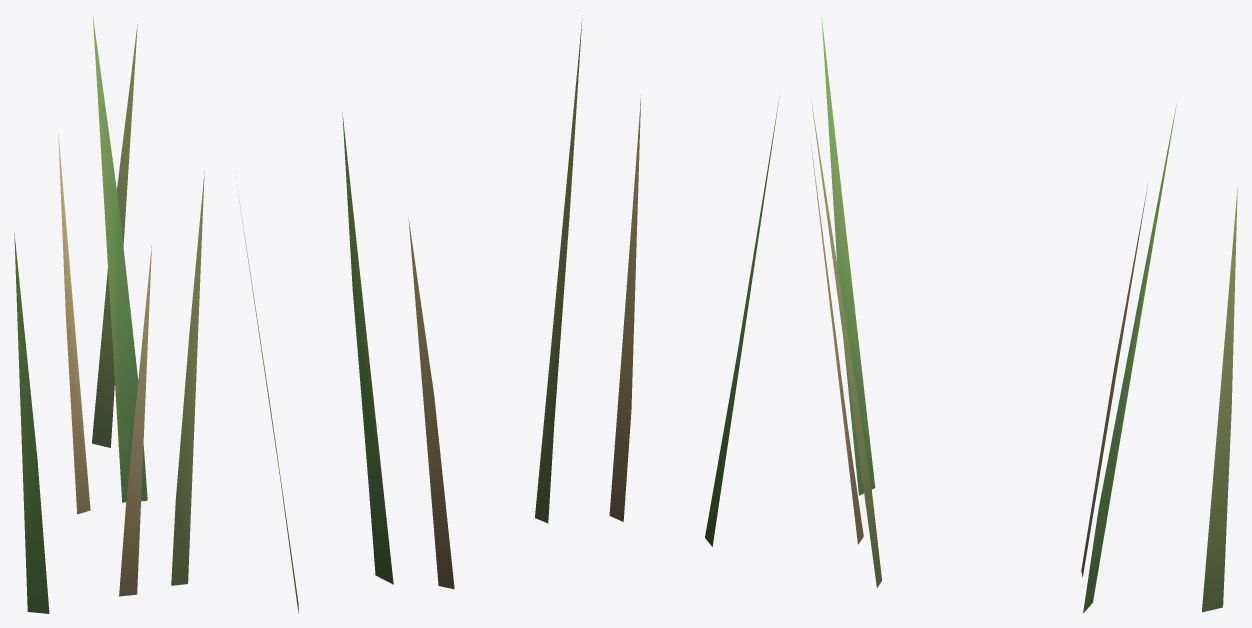
File: SparseField_LOD2.glb
3 views of the same model, side by side, from view 1: azimuth 30°, elevation 25°; view 2: azimuth 150°, elevation 25°; view 3: azimuth 270°, elevation 25° (orthographic). The views are drawn at different scales.
Visible parts, largest first — view 1: SparseField_LOD2; view 2: SparseField_LOD2; view 3: SparseField_LOD2.
Part boxes in pixels (left/top/right/bottom): SparseField_LOD2: left=14, top=17, right=204, bottom=613; SparseField_LOD2: left=236, top=15, right=779, bottom=613; SparseField_LOD2: left=810, top=17, right=1237, bottom=613.
Size of the model in its own units: 0.1768 by 0.2505 by 0.1898.
